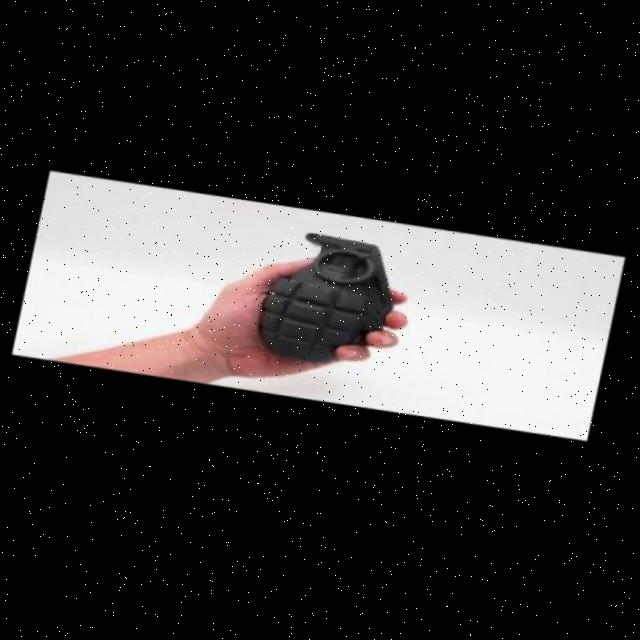grenade: (241, 218, 404, 389)
